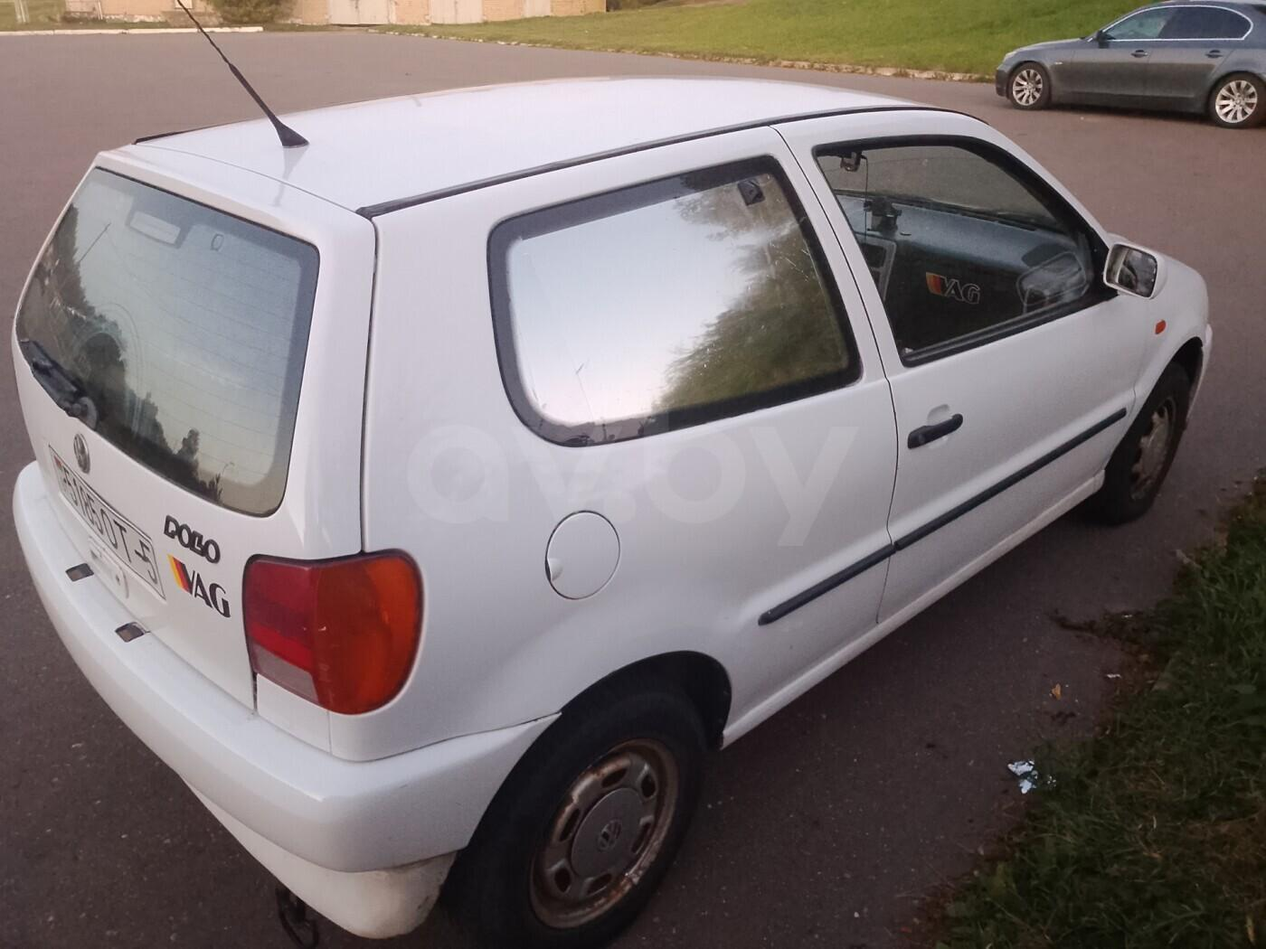Polo_1994-2002: (0, 64, 1226, 949)
